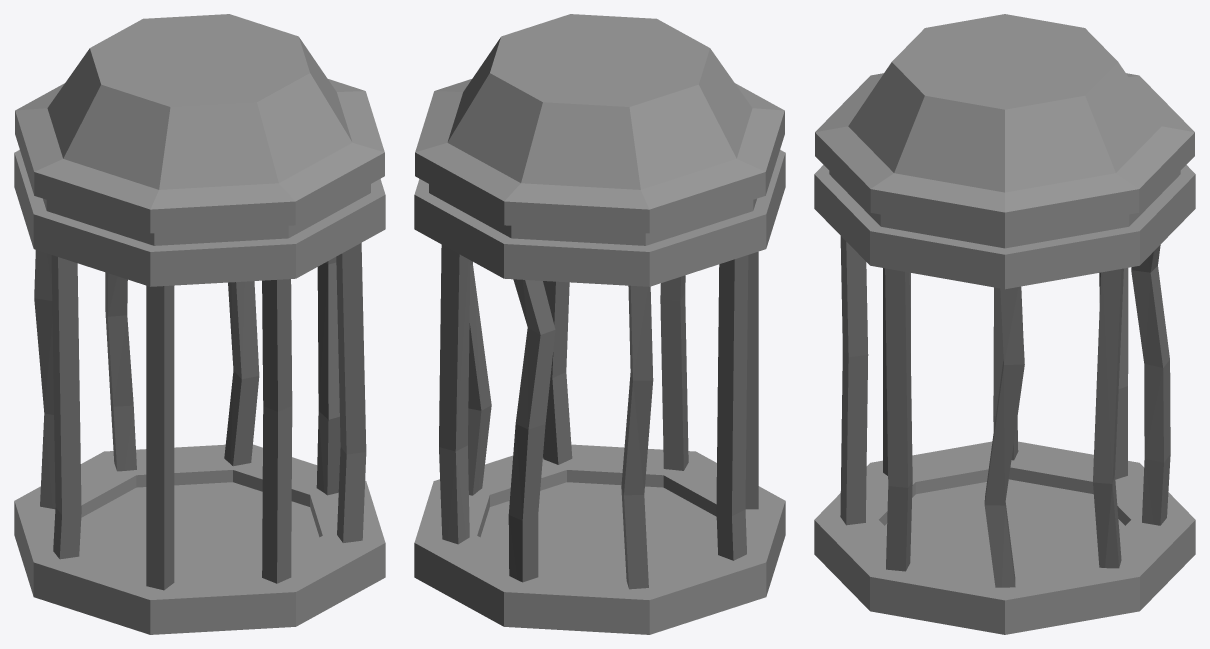
The model's file is LPCP_Cage02.fbx.
3 views of the same model, side by side, from view 1: azimuth 30°, elevation 25°; view 2: azimuth 150°, elevation 25°; view 3: azimuth 270°, elevation 25° (orthographic).
Visible parts, largest first — view 1: LPCP_Cage02; view 2: LPCP_Cage02; view 3: LPCP_Cage02.
Boxes of the visible parts, x1,y1,x2,y2 form: LPCP_Cage02: [14, 14, 385, 634]; LPCP_Cage02: [414, 14, 785, 634]; LPCP_Cage02: [814, 14, 1195, 634].
Size of the model in its own units: 2 by 2.85 by 2.
